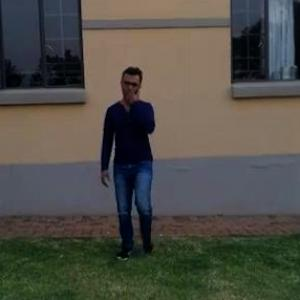follow: (105, 65, 162, 251)
